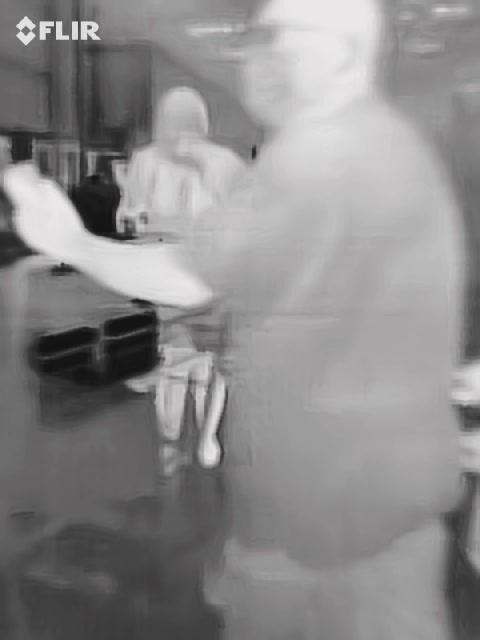head: (235, 1, 394, 135)
